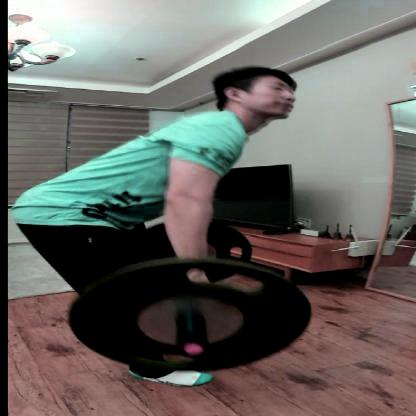Barbell: (161, 336, 217, 360)
